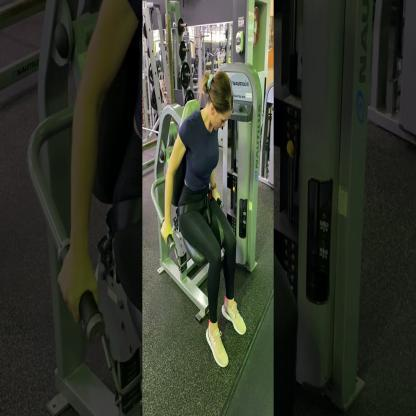seated dip machine: (151, 62, 263, 375)
